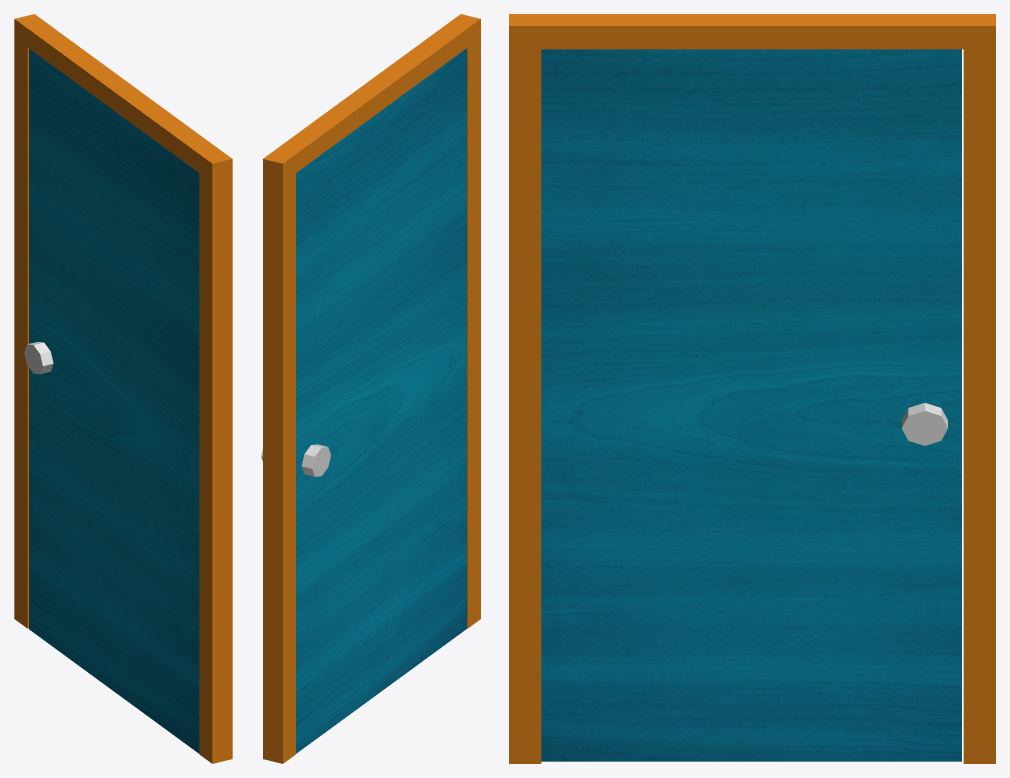
Rendered from Door.fbx.
The picture shows the model from 3 angles, left to right: view 1: azimuth 30°, elevation 25°; view 2: azimuth 150°, elevation 25°; view 3: azimuth 270°, elevation 25°; orthographic projection. The views are drawn at different scales.
Visible parts, largest first — view 1: Door, Door_Frame, Knob; view 2: Door, Door_Frame, Knob; view 3: Door, Door_Frame, Knob.
Boxes of the visible parts, bbox=[...] form: Door: bbox=[29, 48, 199, 753]; Door_Frame: bbox=[14, 14, 232, 763]; Knob: bbox=[24, 341, 53, 374]; Door: bbox=[296, 48, 466, 753]; Door_Frame: bbox=[263, 14, 480, 763]; Knob: bbox=[261, 444, 330, 476]; Door: bbox=[541, 49, 961, 761]; Door_Frame: bbox=[509, 14, 995, 763]; Knob: bbox=[901, 403, 947, 445].
Size of the model in its own units: 103 by 1159 by 693.
